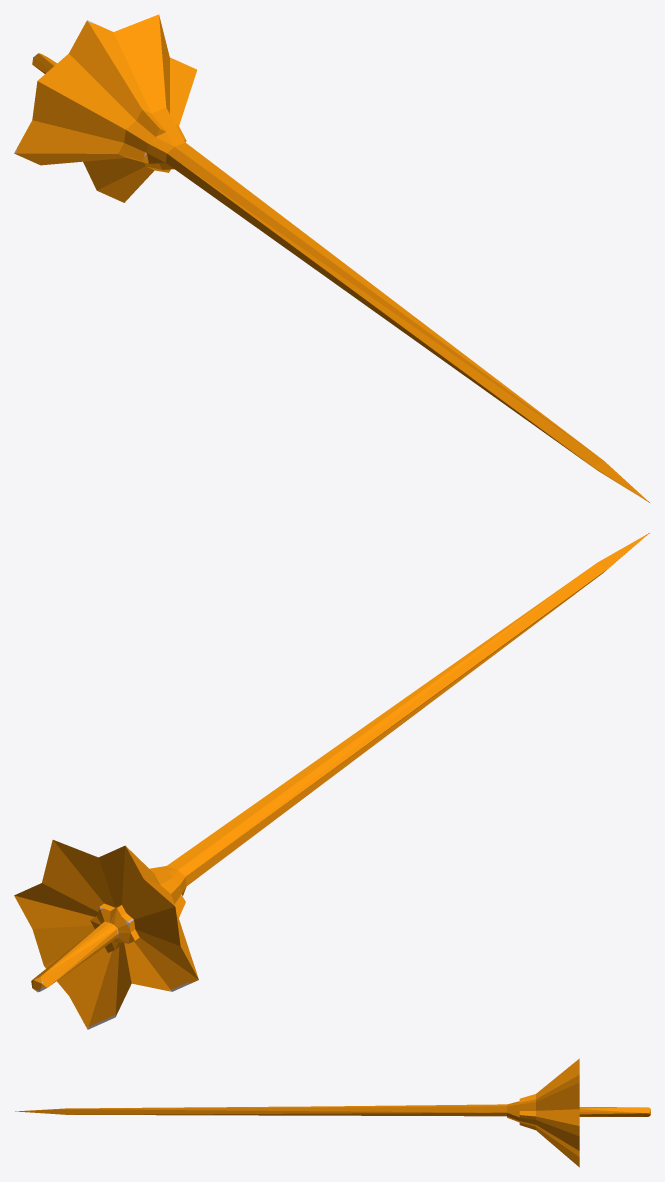
File: EnemyTest_F_Wepon.obj
3 views of the same model, one above another, from view 1: azimuth 30°, elevation 25°; view 2: azimuth 150°, elevation 25°; view 3: azimuth 270°, elevation 25° (orthographic). The views are drawn at different scales.
Parts seen in each view (by area): view 1: 立方体.001; view 2: 立方体.001; view 3: 立方体.001.
Part boxes in pixels (box(x1,y1,x2,y2)): 立方体.001: box(14, 14, 649, 502); 立方体.001: box(14, 533, 649, 1029); 立方体.001: box(15, 1058, 650, 1167).
Bounding box in the file's own units: 1.92 × 1.92 × 11.07.
1 material, 1 textured.
